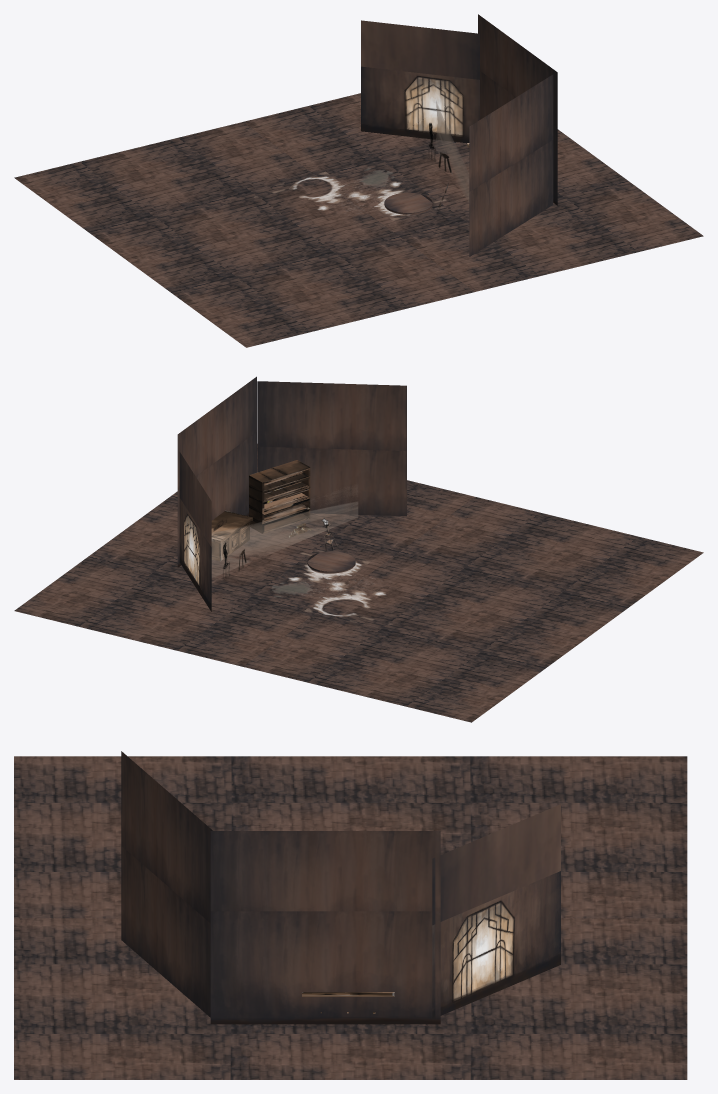
Rendered from Mozart_scene.glb.
The picture shows the model from 3 angles, top to bottom: view 1: azimuth 30°, elevation 25°; view 2: azimuth 150°, elevation 25°; view 3: azimuth 270°, elevation 25°; orthographic projection. The views are drawn at different scales.
Parts seen in each view (by area): view 1: Sol.001, Sol, Mur1, Mur3, Mur2, Rays, Socle, sol-2.001, sol-2; view 2: Sol.001, Sol, Mur3, Mur2, Rays, armoire, Mur1, Bureau, Socle, sol-2.001, sol-2; view 3: Sol, Sol.001, Mur2, Mur1, Mur3.
Part boxes in pixels (x1,y1,x2,y2): Sol.001: (14,122,474,347); Sol: (243,93,703,291); Mur1: (361,20,479,143); Mur3: (469,74,553,256); Mur2: (478,14,557,205); Rays: (435,101,469,201); Socle: (384,192,432,214); sol-2.001: (254,172,365,210); sol-2: (353,181,464,220); Sol.001: (243,497,703,722); Sol: (14,444,474,666); Mur3: (257,381,406,516); Mur2: (177,376,256,567); Rays: (211,502,357,577); armoire: (249,460,310,533); Mur1: (179,452,211,611); Bureau: (211,510,252,560); Socle: (307,551,355,573); sol-2.001: (304,579,392,624); sol-2: (282,548,370,593); Sol: (14,918,687,1079); Sol.001: (14,756,687,918); Mur2: (210,831,440,1024); Mur1: (432,804,560,1019); Mur3: (121,751,212,1017).
Size of the model in its own units: 20.22 by 7.14 by 18.23.
Materials: 16 (16 with a texture image).
